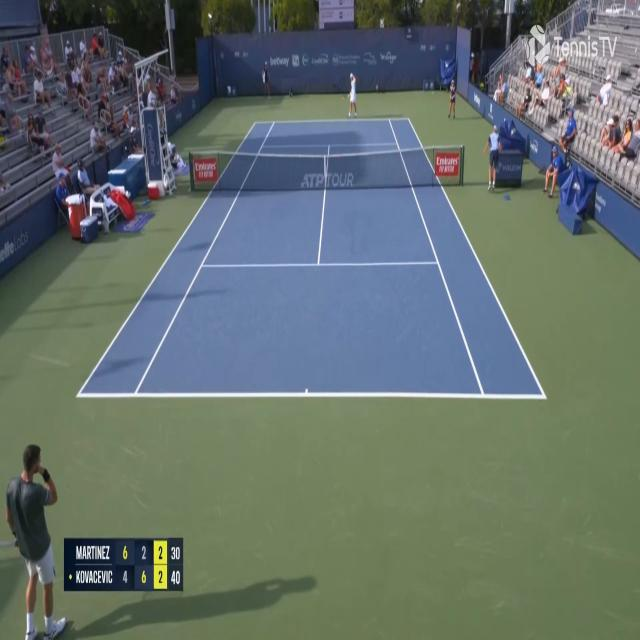tennis-player: (3, 440, 59, 639), (346, 73, 358, 120)
